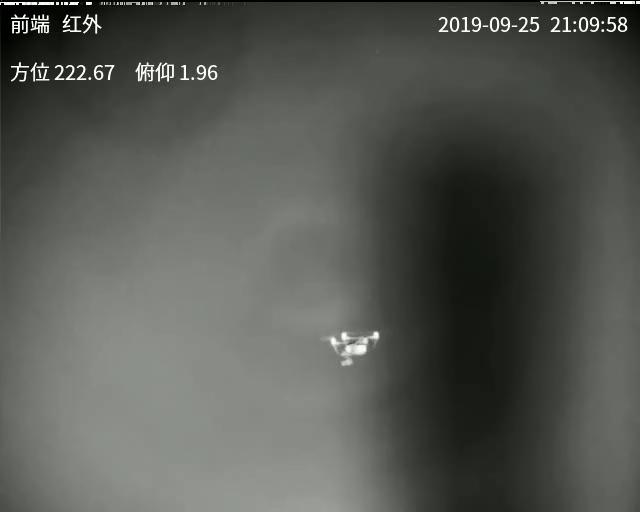uav: (323, 328, 379, 369)
